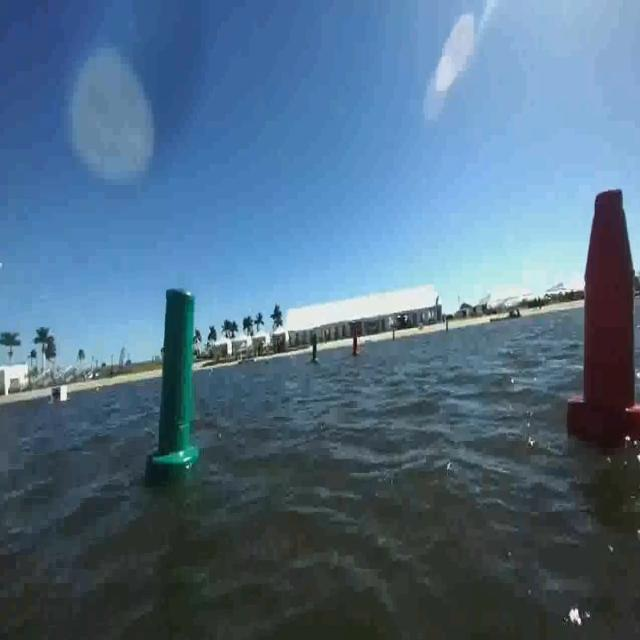green-column-buoy: (154, 281, 202, 468), (310, 333, 321, 365)
red-column-buoy: (564, 187, 638, 449)
